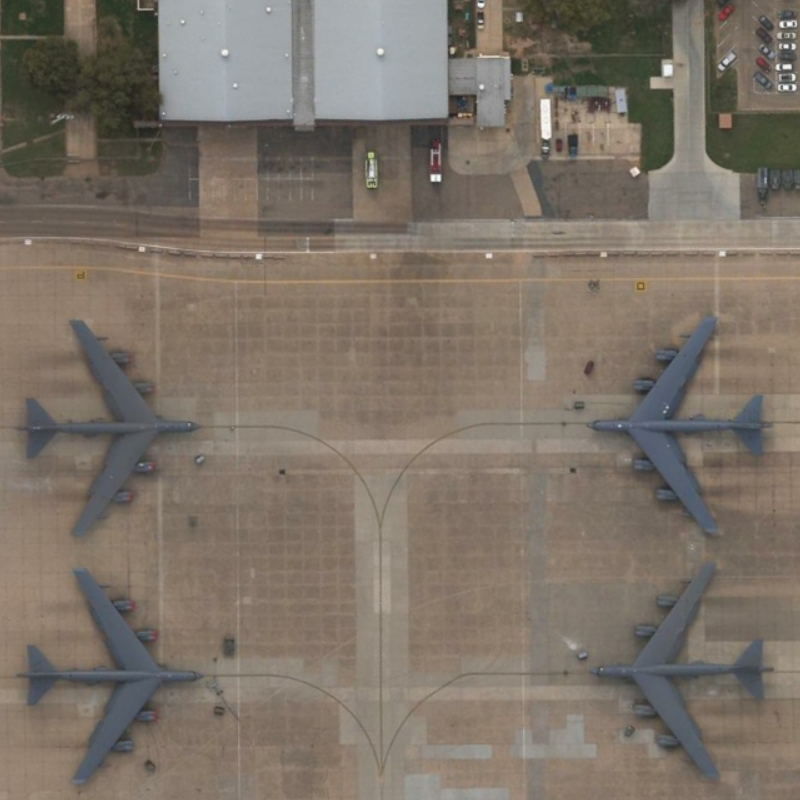A8: (580, 558, 783, 791), (10, 561, 211, 794), (13, 309, 208, 545), (581, 314, 776, 544)
